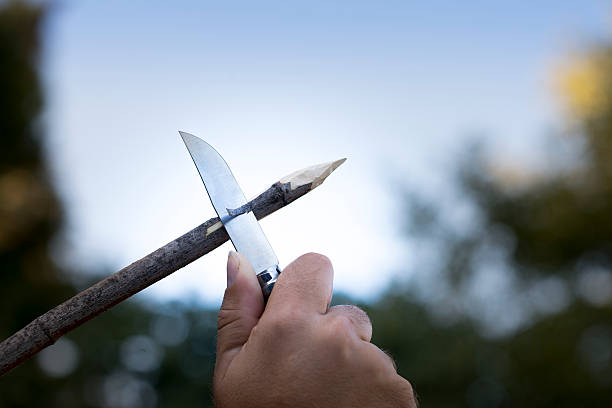knife: (177, 128, 282, 309)
